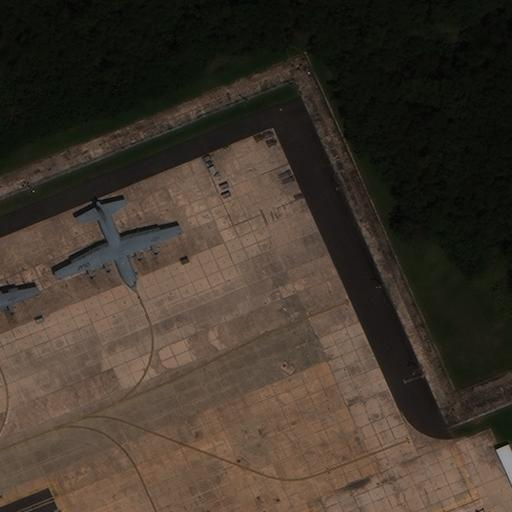Military Transport: (59, 201, 181, 289), (0, 274, 42, 338)
